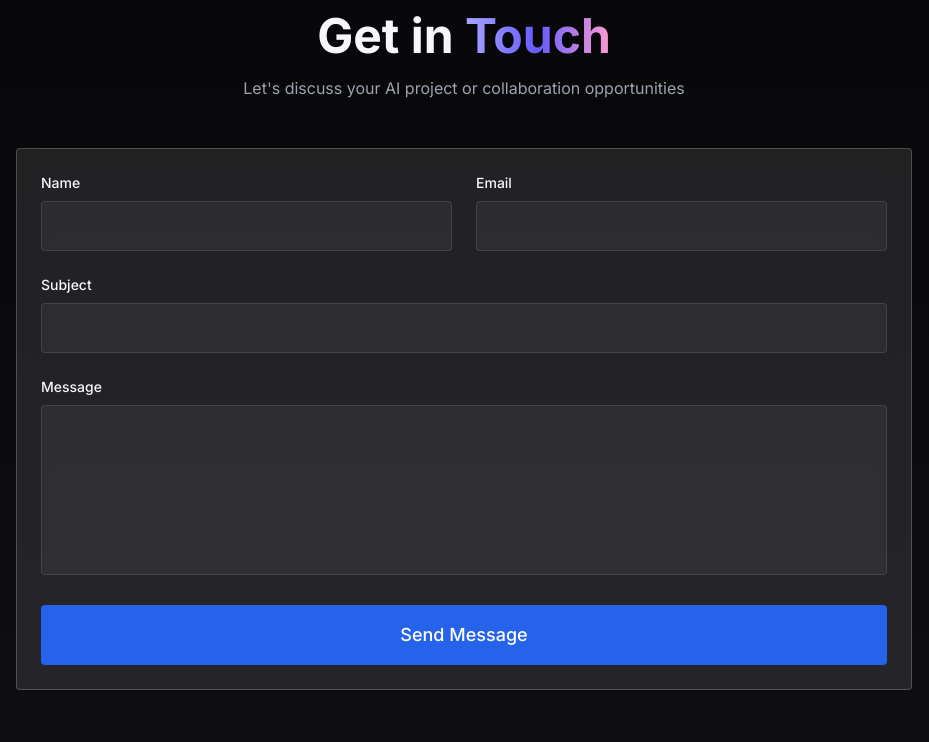
Scenario: Contact › shows "Message sent successfully!" after successful submit
This screenshot has width=929, height=742.
Type "John" into the field labelled "Name" at (246, 226), box [41, 201, 452, 251]
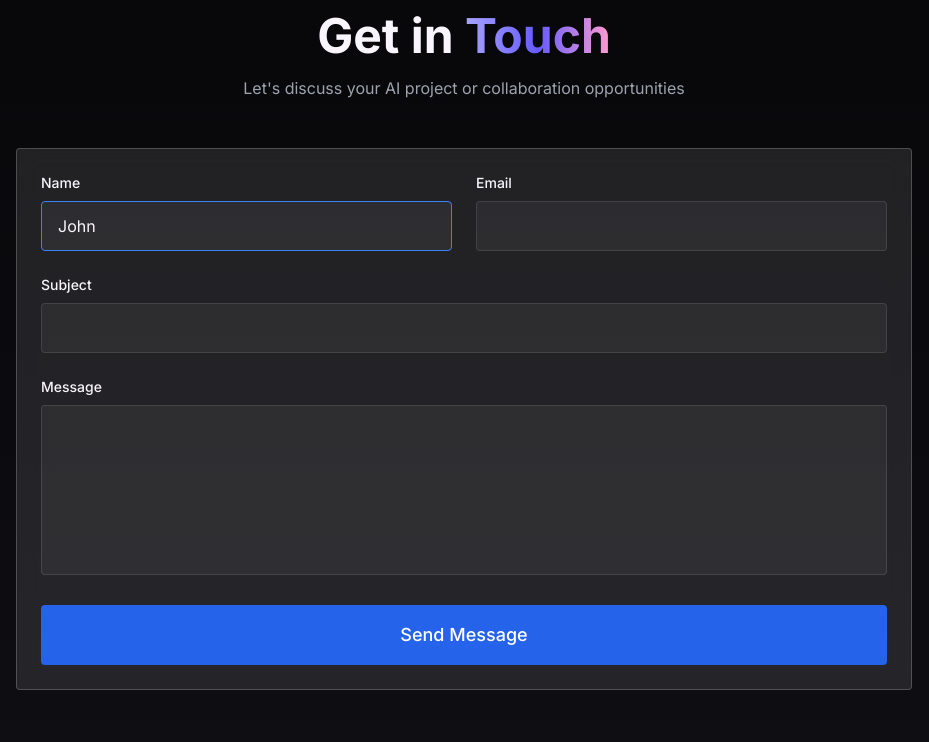
Type "john@example.com" into the field labelled "Email" at (682, 226), box [476, 201, 887, 251]
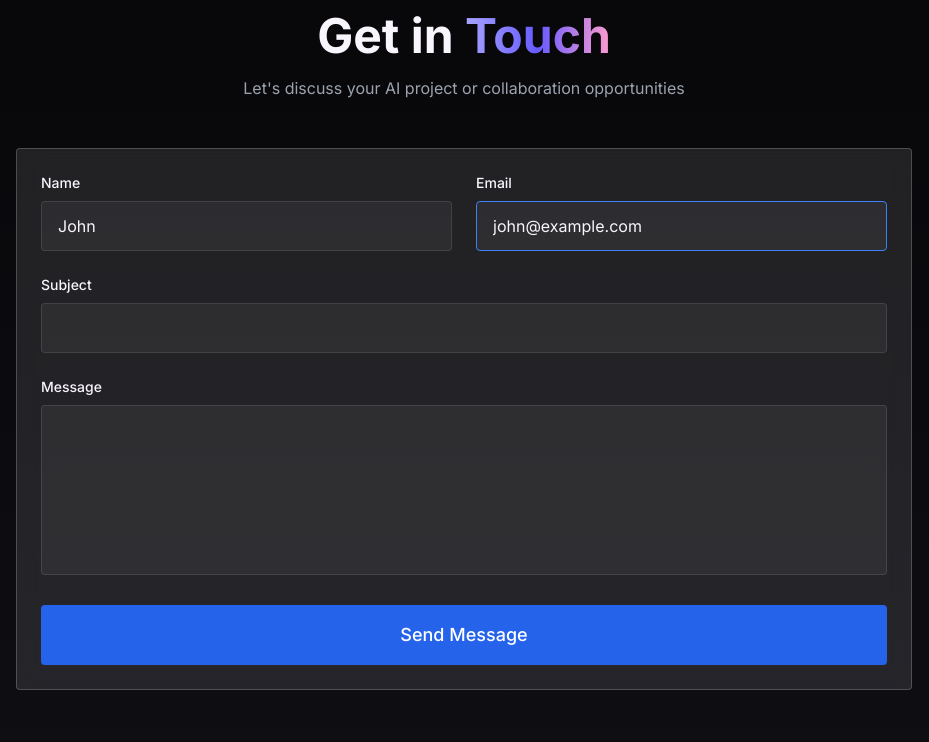
Type "Hello" into the field labelled "Subject" at (464, 328), box [41, 303, 887, 353]
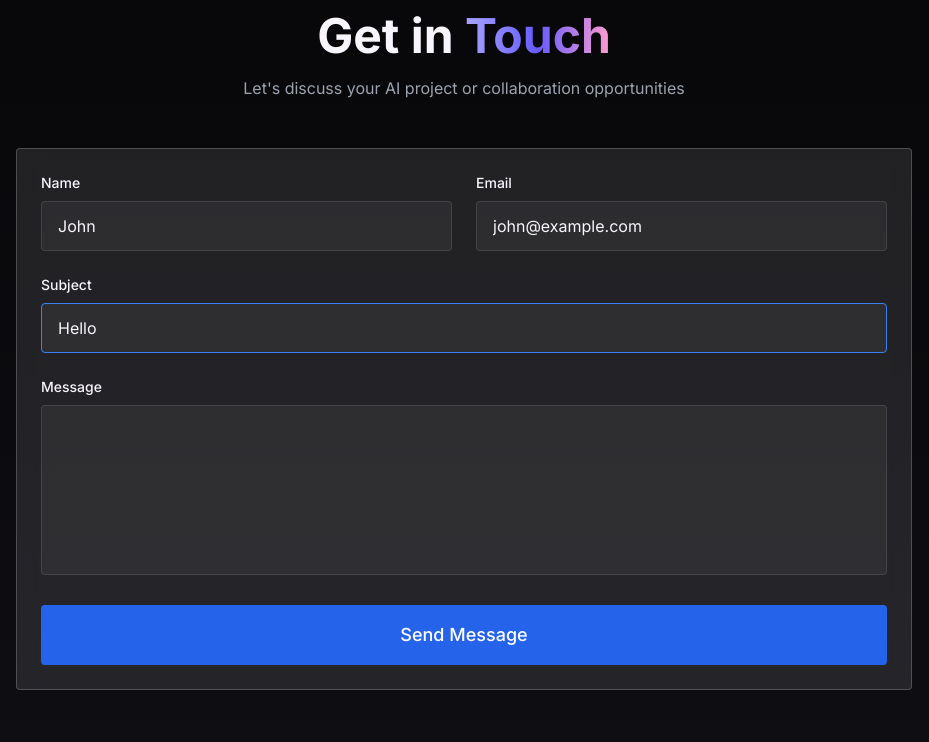
Type "Test message" into the text box labelled "Message" at (464, 490), box [41, 405, 887, 575]
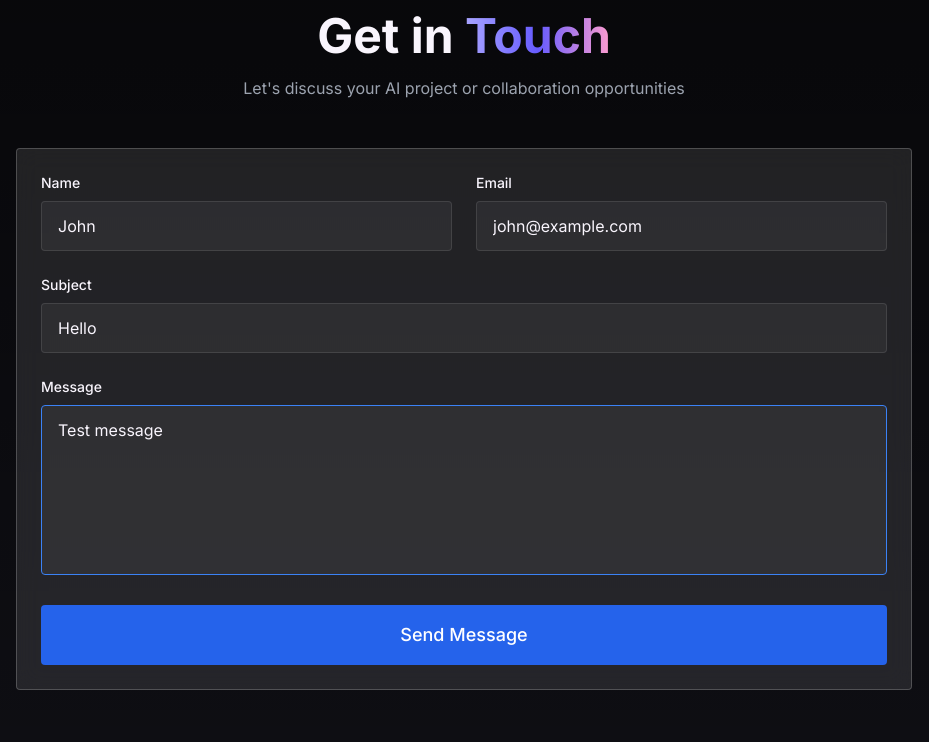
Click the button "Send Message" at (464, 635), box [41, 605, 887, 665]
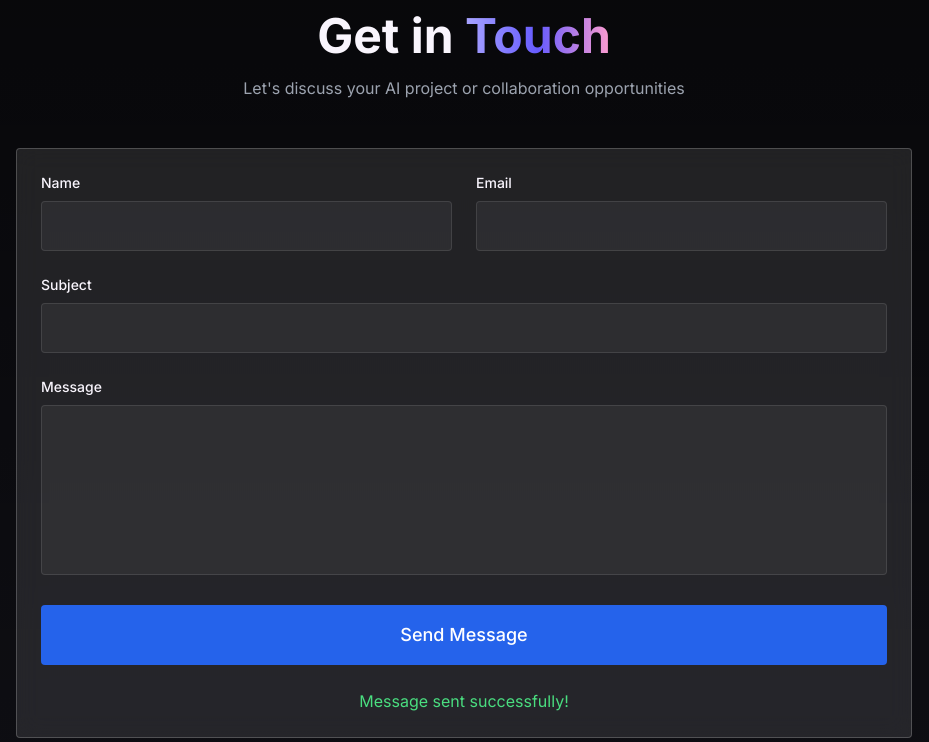
Now the text "Message sent successfully!" is shown, box [359, 691, 569, 711]
